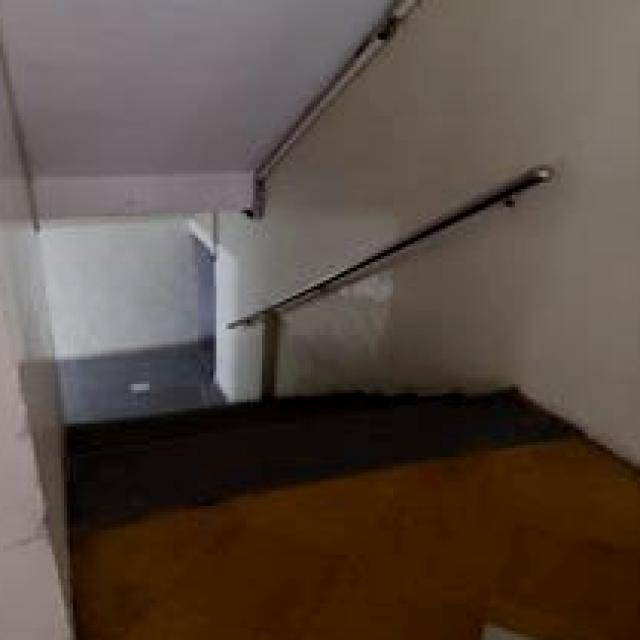downstair: (62, 364, 452, 504)
